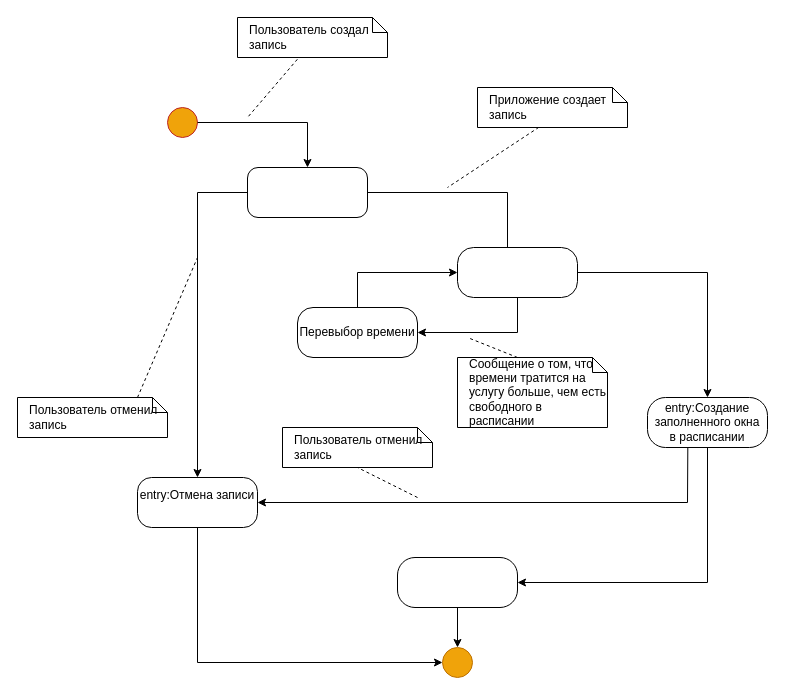
This 785x695 diagram has some shape labels left out. The shapes that lost their labels are listed below. From the top down, each one's centre as x and y in pixels, then its label:
pixel 307 192: created
pixel 517 272: Выбор времени и услуги
pixel 457 582: exit: Оповещения user'а и мастера о записи
